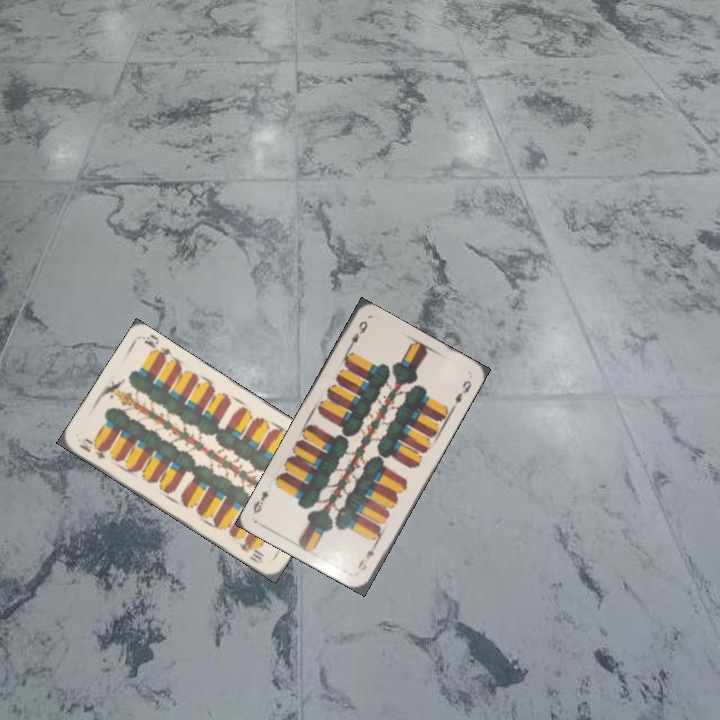E10: (74, 434, 109, 461)
E9: (343, 317, 370, 354), (353, 538, 380, 573)
